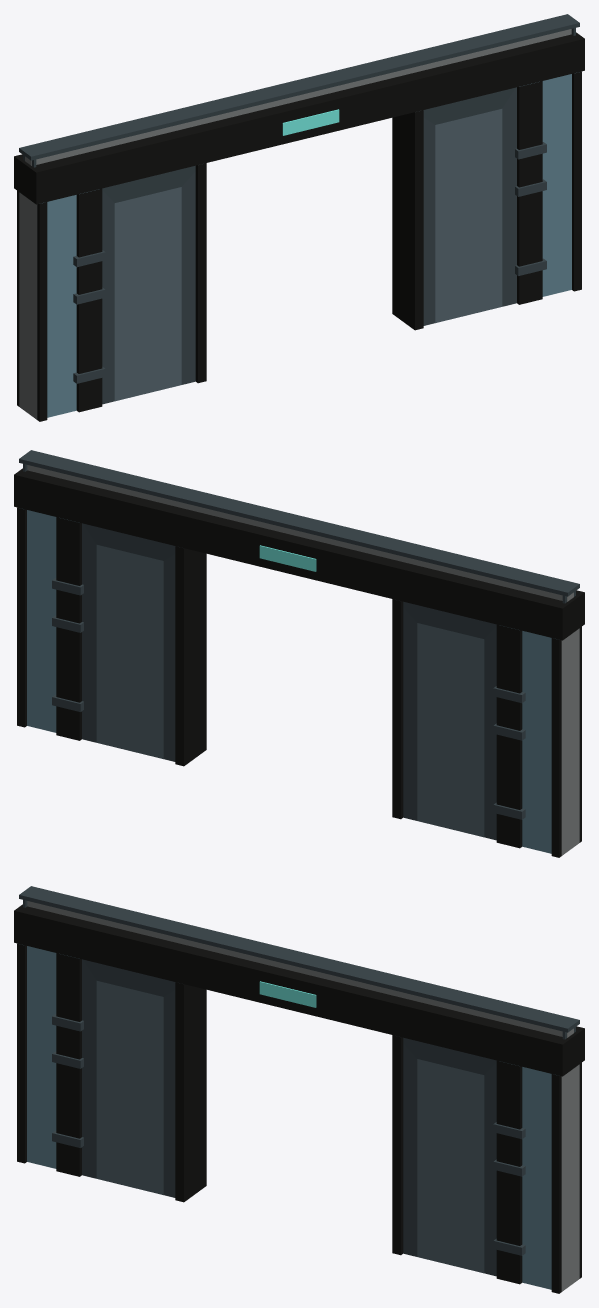
Rendered from congmap1-3.fbx.
3 renders of one model, top to bottom at view 1: azimuth 30°, elevation 25°; view 2: azimuth 150°, elevation 25°; view 3: azimuth 330°, elevation 25°, orthographic.
Parts seen in each view (by area): view 1: Cube.017; view 2: Cube.017; view 3: Cube.017.
Boxes of the visible parts, x1,y1,x2,y2 form: Cube.017: (14, 14, 584, 421); Cube.017: (14, 450, 584, 857); Cube.017: (14, 886, 584, 1293).
Size of the model in its own units: 10.09 by 4.6 by 0.793.
